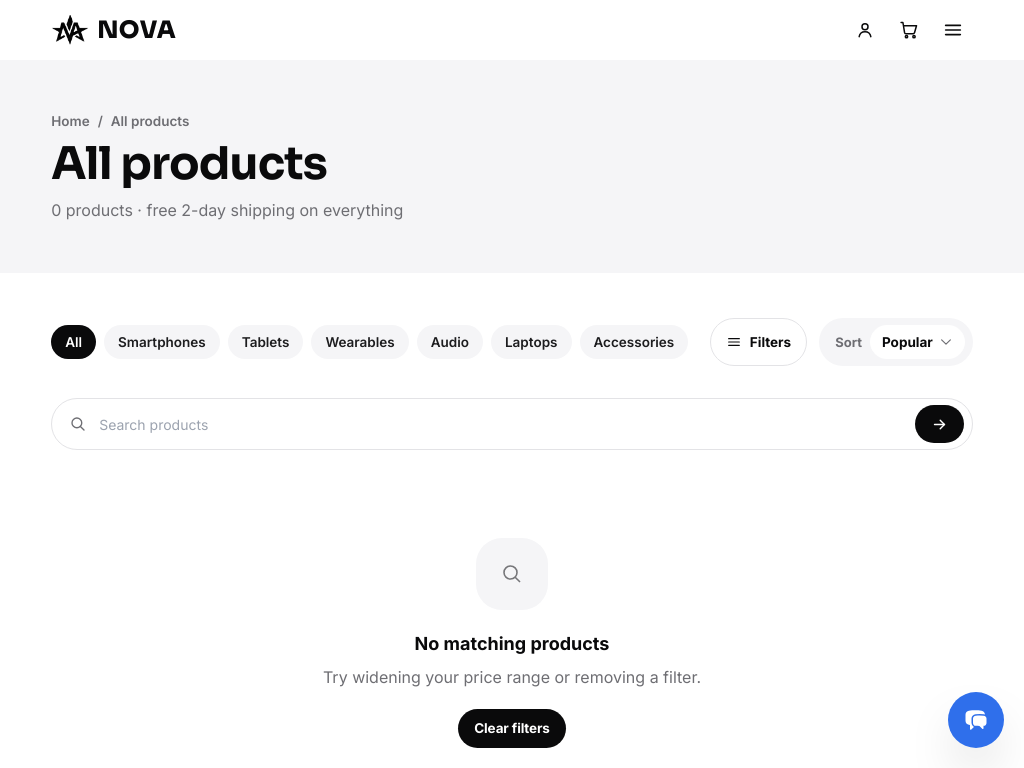
Scenario: NOVA storefront › requests and renders product suggestions from the API
In the dropdown named "Search products": (501, 425) [99, 414, 903, 435], type "nova"
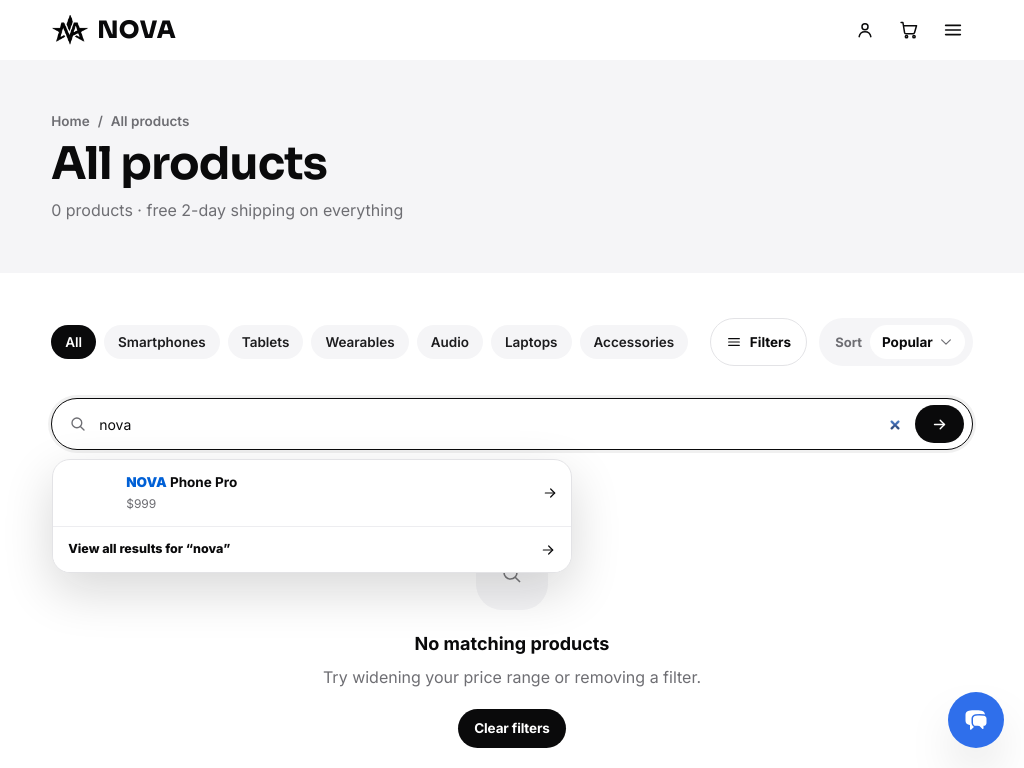
Expected: the option "NOVA Phone Pro $999" is shown, [126, 474, 558, 511]
